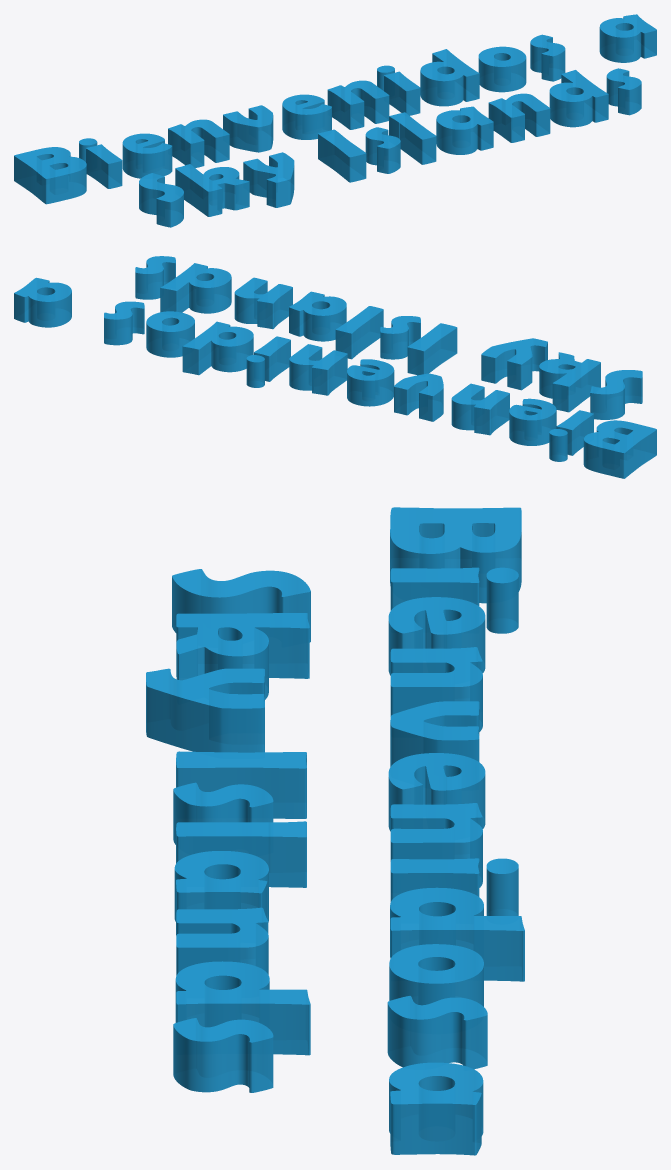
File: 3DTextWelcome.fbx
3 renders of one model, top to bottom at view 1: azimuth 30°, elevation 25°; view 2: azimuth 150°, elevation 25°; view 3: azimuth 270°, elevation 25°, orthographic. The views are drawn at different scales.
Visible parts, largest first — view 1: Text; view 2: Text; view 3: Text.
Part boxes in pixels (x1,y1,x2,y2): Text: [14, 14, 656, 227]; Text: [14, 256, 656, 478]; Text: [146, 507, 524, 1155].
Size of the model in its own units: 811 by 32 by 218.
